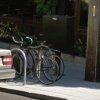Bicycle: (1, 19, 66, 89)
